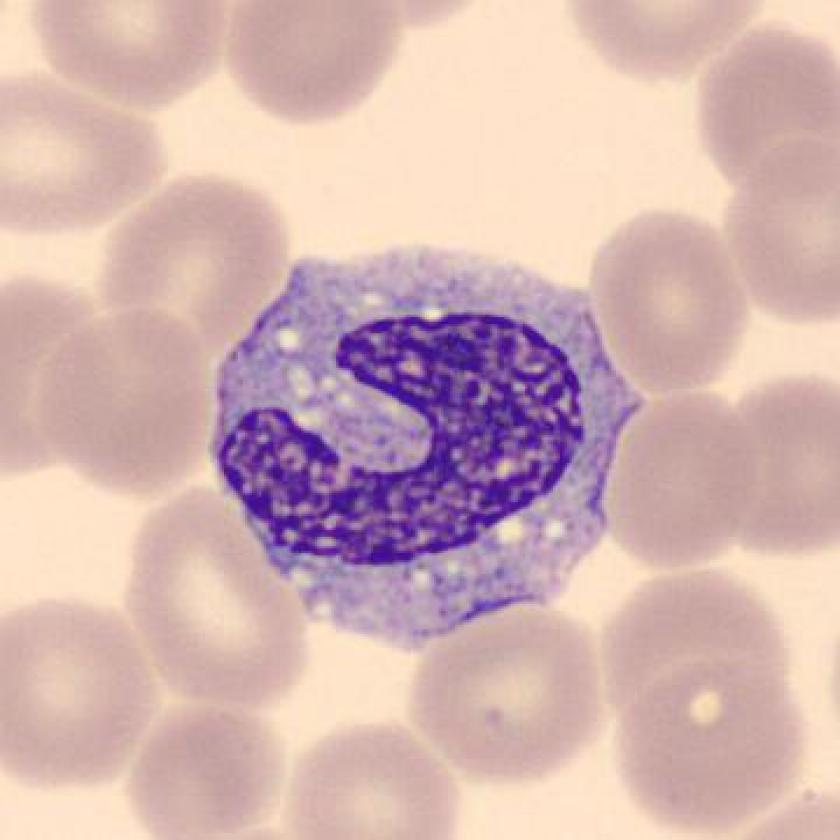monocyte: (190, 223, 659, 665)
